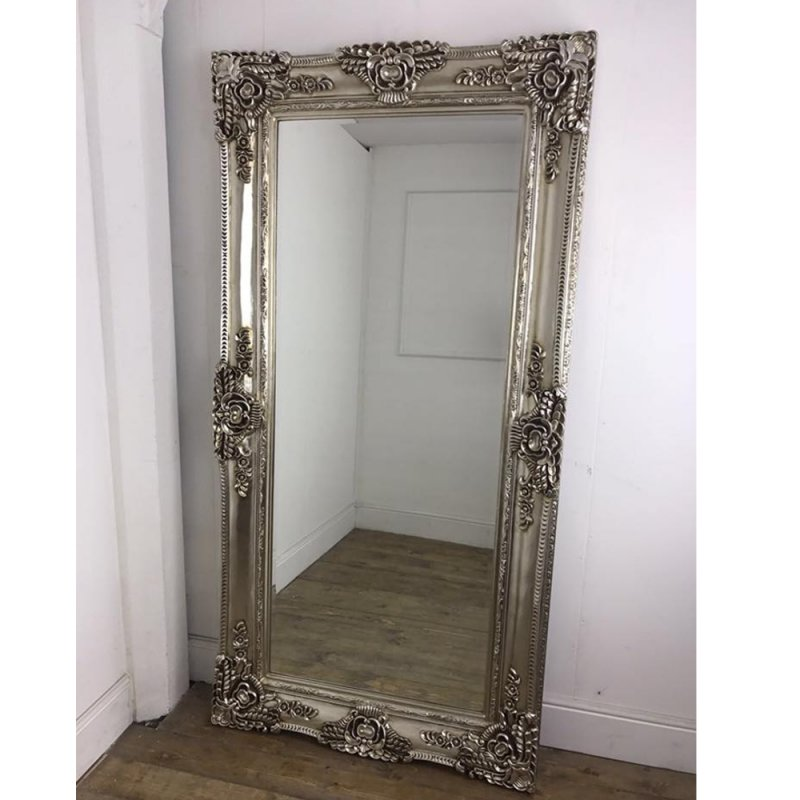Nonrec_Glass: (206, 41, 573, 783)
